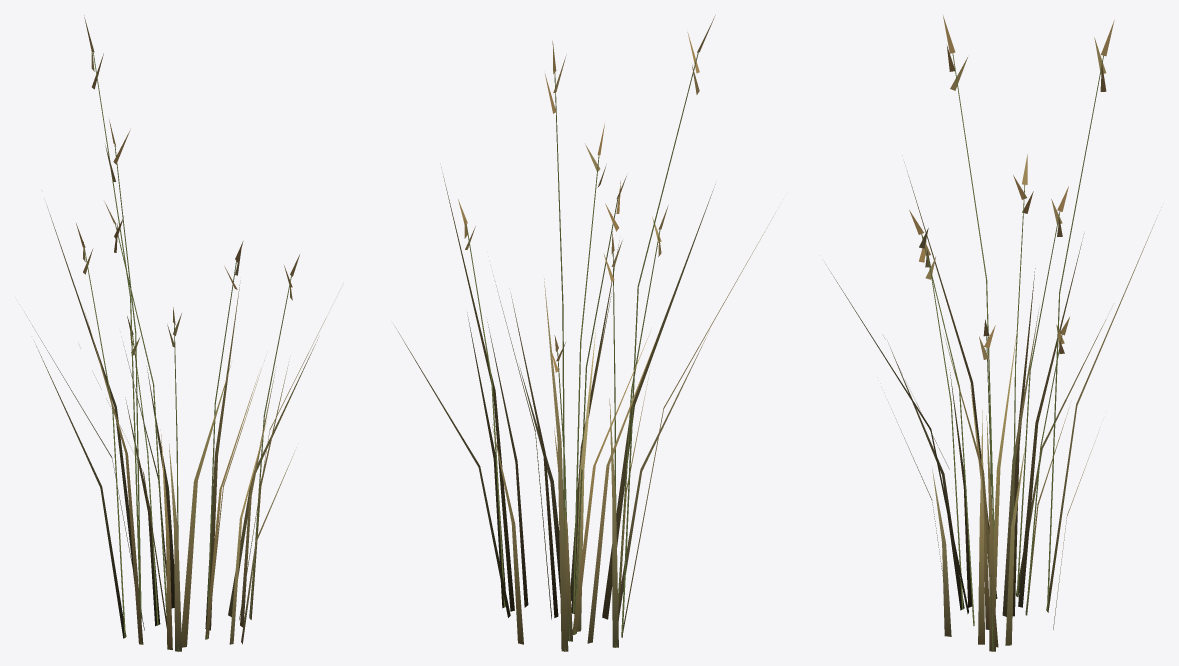
Rendered from grass-dry-a.lod1.glb.
3 renders of one model, left to right at view 1: azimuth 30°, elevation 25°; view 2: azimuth 150°, elevation 25°; view 3: azimuth 270°, elevation 25°, orthographic. The views are drawn at different scales.
Visible parts, largest first — view 1: grass-dry-a.lod1; view 2: grass-dry-a.lod1; view 3: grass-dry-a.lod1.
Boxes of the visible parts, <box> form: grass-dry-a.lod1: <box>26,15,326,651</box>; grass-dry-a.lod1: <box>395,15,775,651</box>; grass-dry-a.lod1: <box>828,15,1161,651</box>.
Bounding box in the file's own units: 0.7017 × 1.31 × 0.7059.
